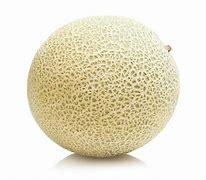Melon Ripe: (28, 16, 177, 158)
